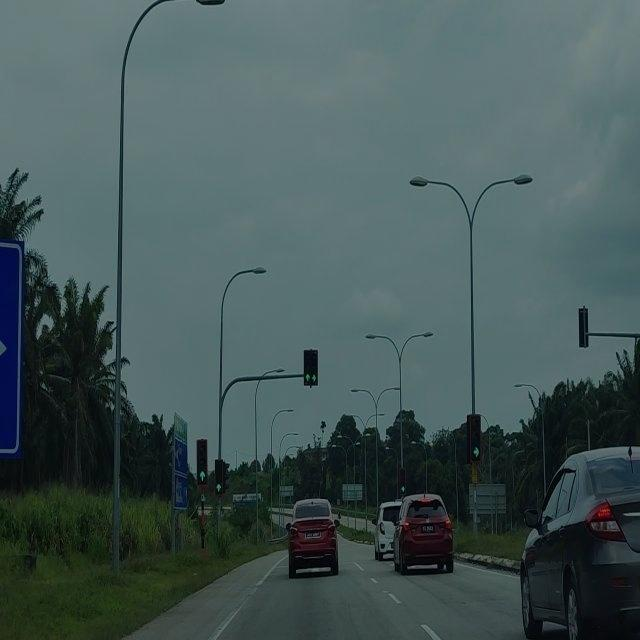Green: (470, 414, 480, 462), (197, 439, 207, 485), (214, 459, 223, 494), (303, 349, 311, 386), (310, 349, 318, 385), (400, 467, 404, 494)
